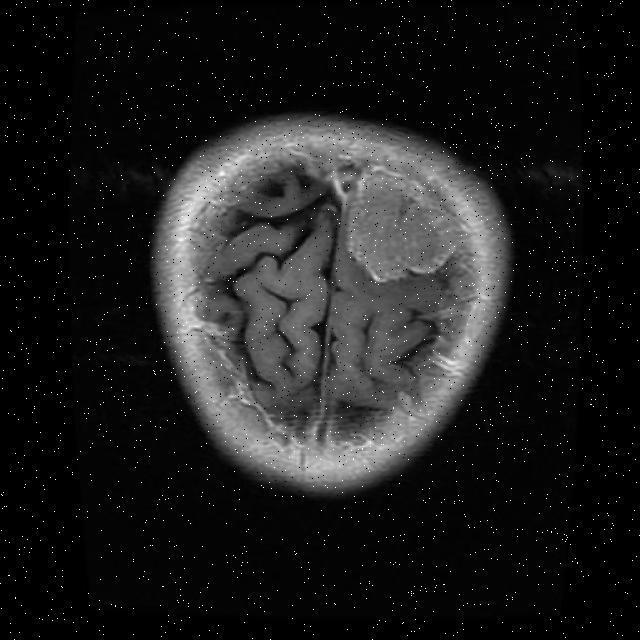Meningioma: (347, 166, 459, 282)
